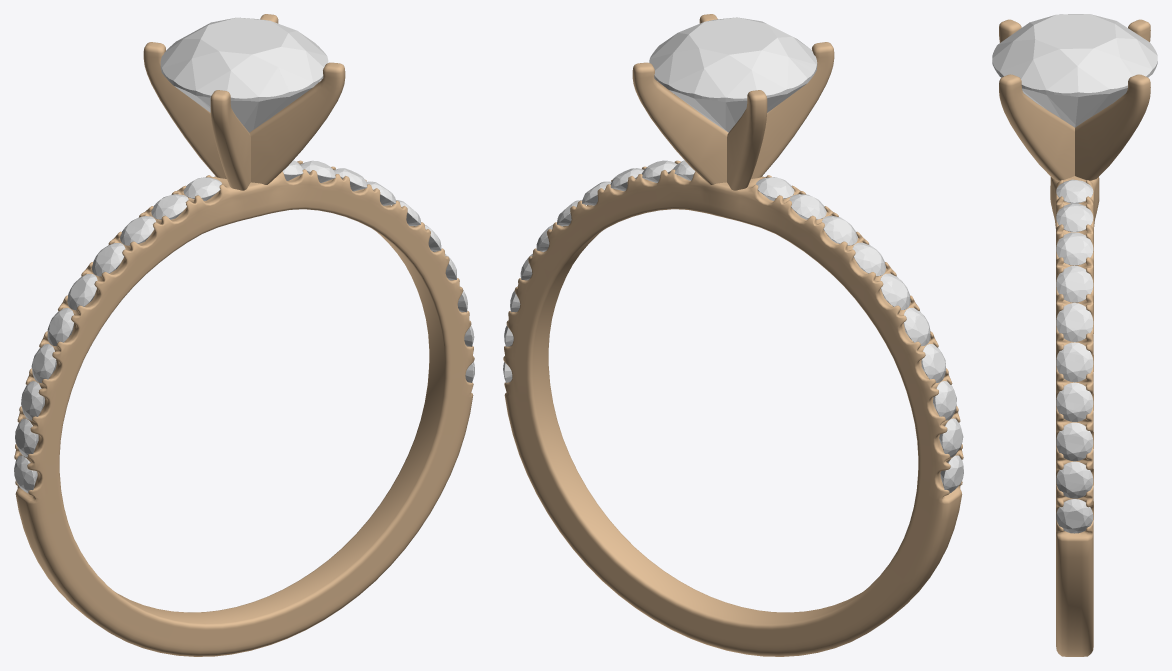
Rendered from ring8.glb.
3 views of the same model, side by side, from view 1: azimuth 30°, elevation 25°; view 2: azimuth 150°, elevation 25°; view 3: azimuth 270°, elevation 25° (orthographic).
Parts seen in each view (by area): view 1: Basering_mesh, Diamond_mesh, Prong_mesh, Diamond018, Diamond017, Diamond016, Diamond019, Diamond015, Diamond020, Diamond014; view 2: Basering_mesh, Diamond_mesh, Prong_mesh, Diamond017, Diamond018, Diamond016, Diamond019, Diamond015, Diamond020, Diamond014; view 3: Diamond_mesh, Prong_mesh, Basering_mesh, Diamond006, Diamond005, Diamond007, Diamond004, Diamond003, Diamond008, Diamond002, Diamond009, Diamond010 (+1 smaller).
Part boxes in pixels (x1,y1,x2,y2): Basering_mesh: (14,160,474,656); Diamond_mesh: (160,17,328,132); Prong_mesh: (143,14,345,190); Diamond018: (92,243,125,276); Diamond017: (67,273,97,310); Diamond016: (47,308,73,345); Diamond019: (120,216,155,245); Diamond015: (31,344,56,382); Diamond020: (151,194,188,219); Diamond014: (21,381,44,420); Basering_mesh: (503,160,963,656); Diamond_mesh: (649,17,817,132); Prong_mesh: (632,14,834,190); Diamond017: (880,273,910,309); Diamond018: (852,242,885,276); Diamond016: (903,308,930,345); Diamond019: (822,215,857,245); Diamond015: (921,344,945,382); Diamond020: (789,194,826,219); Diamond014: (933,381,956,420); Diamond_mesh: (992,14,1157,127); Prong_mesh: (999,19,1150,180); Basering_mesh: (1050,176,1099,656); Diamond006: (1056,342,1093,382); Diamond005: (1056,382,1093,421); Diamond007: (1056,303,1093,341); Diamond004: (1056,422,1093,461); Diamond003: (1056,461,1093,498); Diamond008: (1056,266,1093,302); Diamond002: (1056,499,1093,533); Diamond009: (1056,232,1093,265); Diamond010: (1056,203,1093,231).
Bounding box in the file's own units: 2.83 × 3.65 × 0.91.
